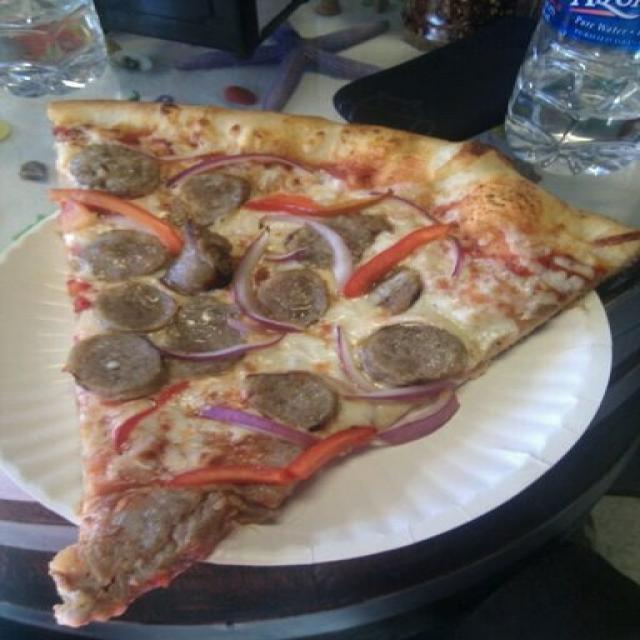Onions: (193, 398, 328, 452), (232, 230, 290, 332), (383, 388, 461, 444), (155, 334, 303, 363), (306, 218, 359, 298), (173, 152, 306, 180), (330, 326, 385, 388), (345, 371, 447, 404)
Pizza: (47, 96, 640, 626)
Red Pepper: (56, 187, 178, 244), (355, 219, 440, 297), (250, 185, 388, 220), (288, 426, 366, 470), (168, 466, 296, 484)
Sausage: (113, 483, 232, 566), (367, 318, 468, 384), (67, 331, 166, 394), (244, 370, 337, 430), (73, 140, 163, 198), (174, 299, 248, 364), (254, 269, 331, 329), (91, 280, 177, 330), (87, 229, 169, 281), (163, 229, 232, 285), (175, 171, 247, 222)
